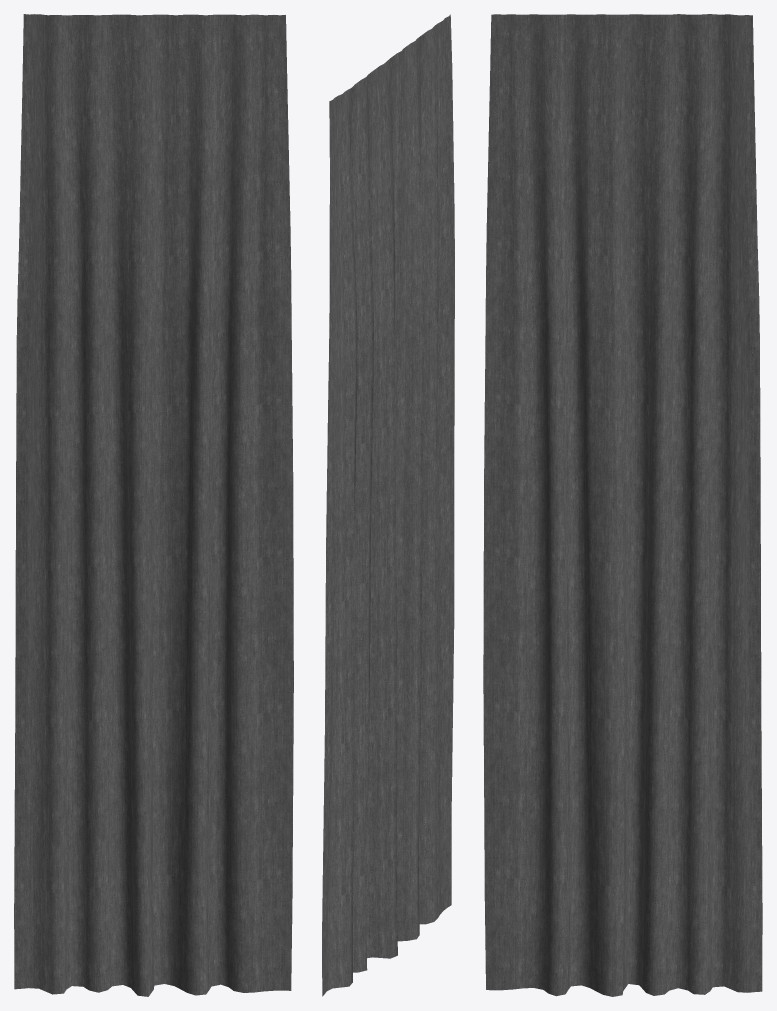
Rendered from Textile_curtain_01.glb.
The picture shows the model from 3 angles, left to right: view 1: azimuth 90°, elevation 25°; view 2: azimuth 150°, elevation 25°; view 3: azimuth 270°, elevation 25°; orthographic projection. The views are drawn at different scales.
Parts seen in each view (by area): view 1: curtain_01; view 2: curtain_01; view 3: curtain_01.
Boxes of the visible parts, x1=… form: curtain_01: x1=14, y1=14, x2=293, y2=996; curtain_01: x1=322, y1=14, x2=454, y2=996; curtain_01: x1=483, y1=14, x2=762, y2=996.
Size of the model in its own units: 0.1054 by 3.48 by 0.9021.
1 material, 1 textured.
